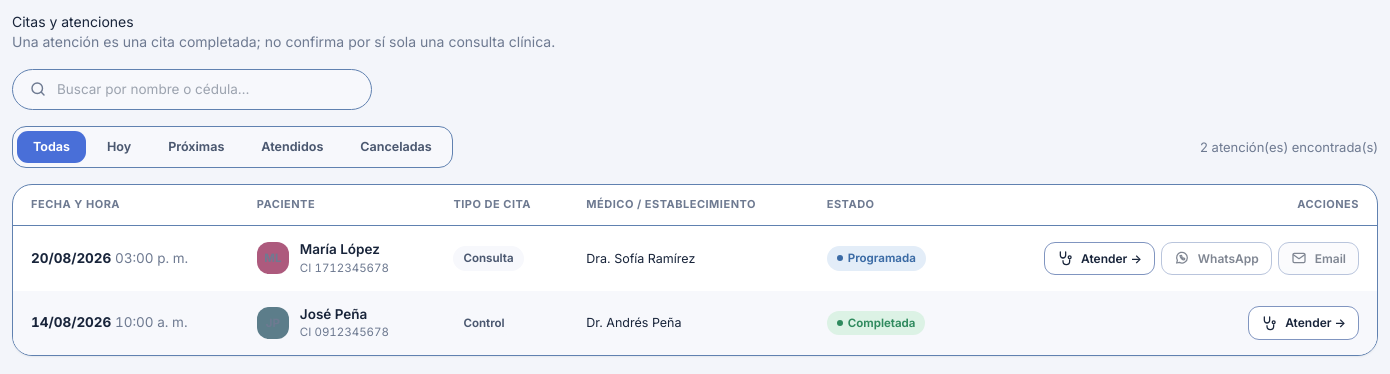
Scenario: PatientAppointmentsTab search › filters by patient name, ignoring accents and case
Check: the text "María López" is shown, box [300, 241, 380, 257]
Check: the text "José Peña" is shown, box [300, 306, 367, 322]
Type "jose" into the field with placeholder "Buscar por nombre o cédula…". click: (206, 89)
box: [57, 80, 355, 99]
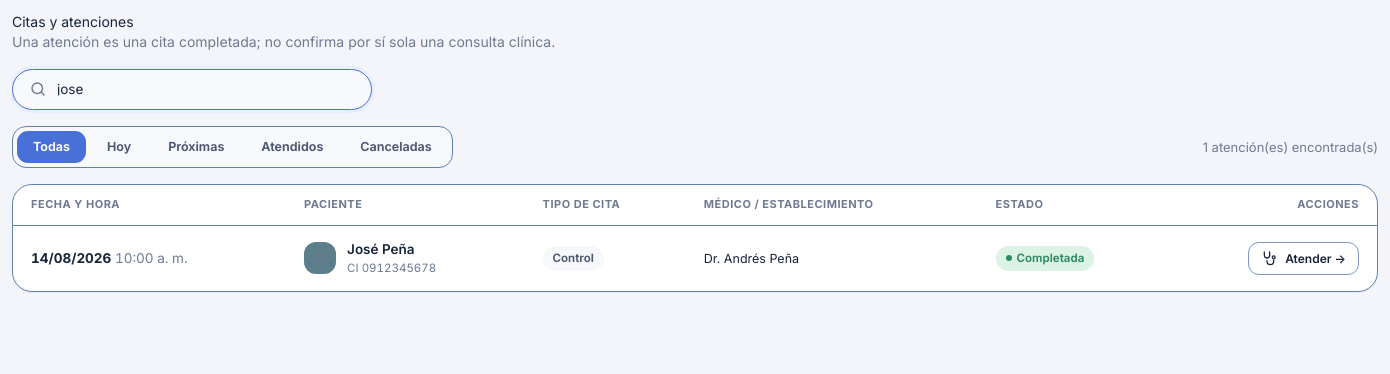
Check: the text "José Peña" is shown, box [347, 241, 415, 257]
Check: the link "María López" is gone
